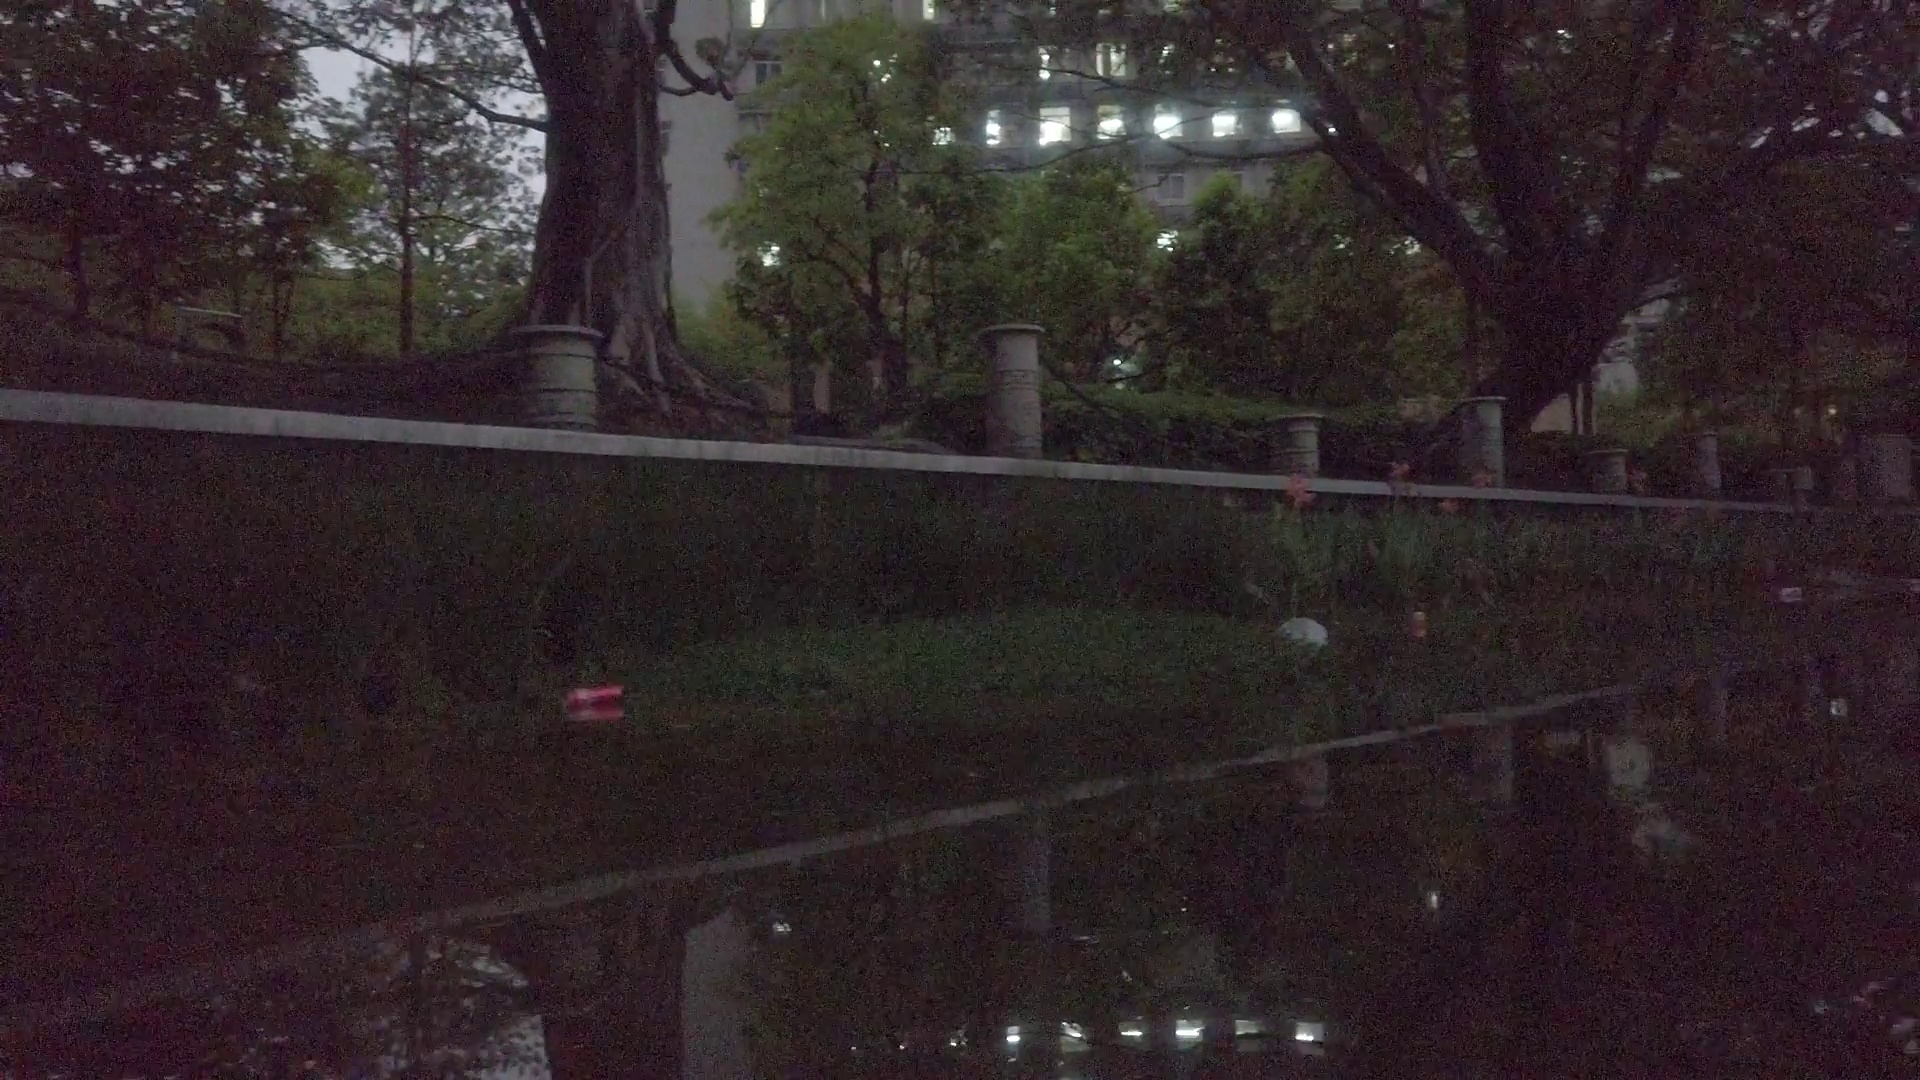bottle: (564, 686, 622, 713), (1410, 608, 1433, 633), (1774, 585, 1803, 599)
plastic: (1276, 615, 1331, 644)
